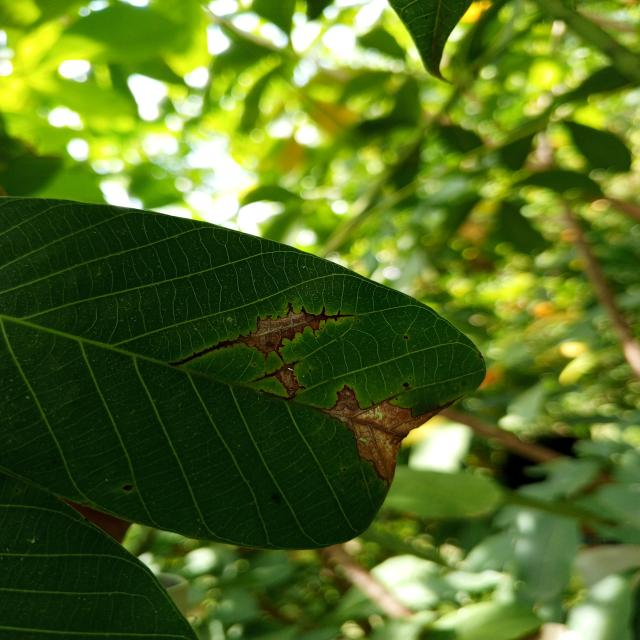Corynespora: (168, 302, 356, 368), (248, 360, 302, 384), (261, 389, 297, 402)
Leaf-Blight: (322, 384, 454, 484), (276, 370, 298, 394)
